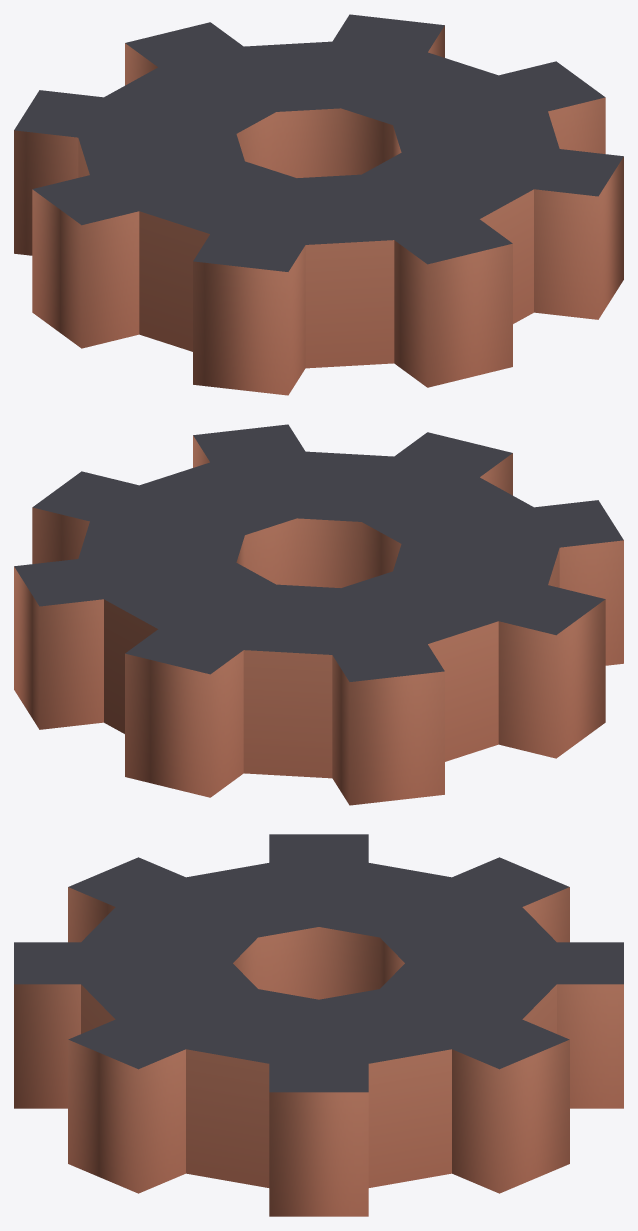
Rendered from cog-a.obj.
3 renders of one model, top to bottom at view 1: azimuth 30°, elevation 25°; view 2: azimuth 150°, elevation 25°; view 3: azimuth 270°, elevation 25°, orthographic.
Parts seen in each view (by area): view 1: cog-a; view 2: cog-a; view 3: cog-a.
Boxes of the visible parts, x1,y1,x2,y2 form: cog-a: [14, 14, 623, 395]; cog-a: [14, 424, 623, 805]; cog-a: [14, 834, 623, 1216].
Size of the model in its own units: 1 by 0.225 by 1.
